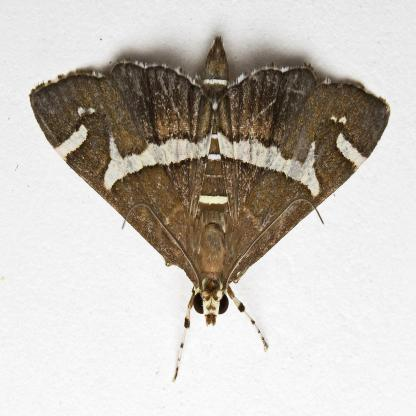Leaf Webber: (27, 25, 400, 333)
